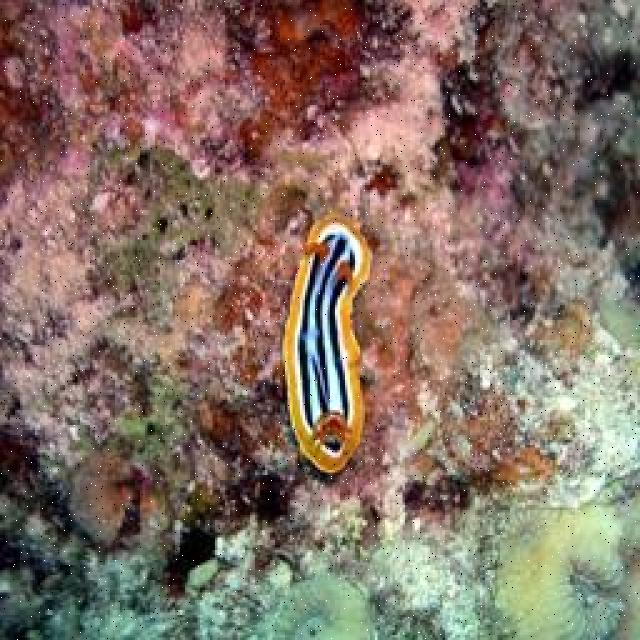reefs: (280, 214, 373, 474), (500, 502, 638, 638), (268, 574, 378, 638)
